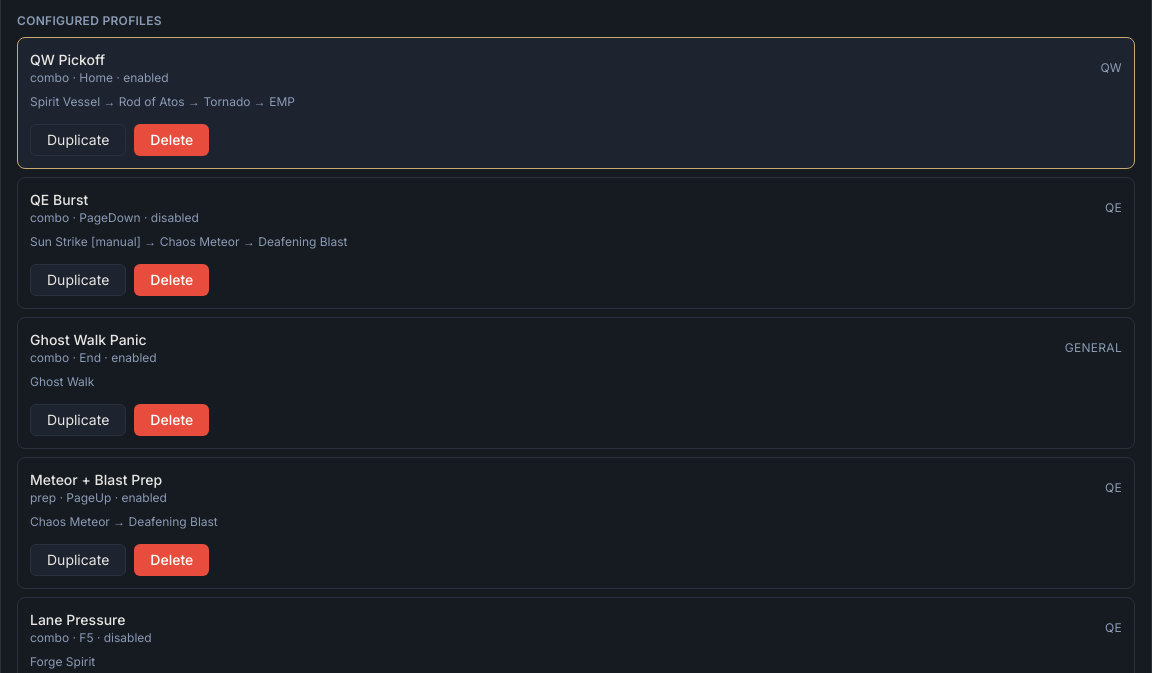
InvokerConfig › clears the active combo when the active profile is deleted
(page scrolled)
Click the button "Ghost Walk Panic combo · End · enabled general Ghost Walk" at [88, 340], box [30, 330, 1122, 390]
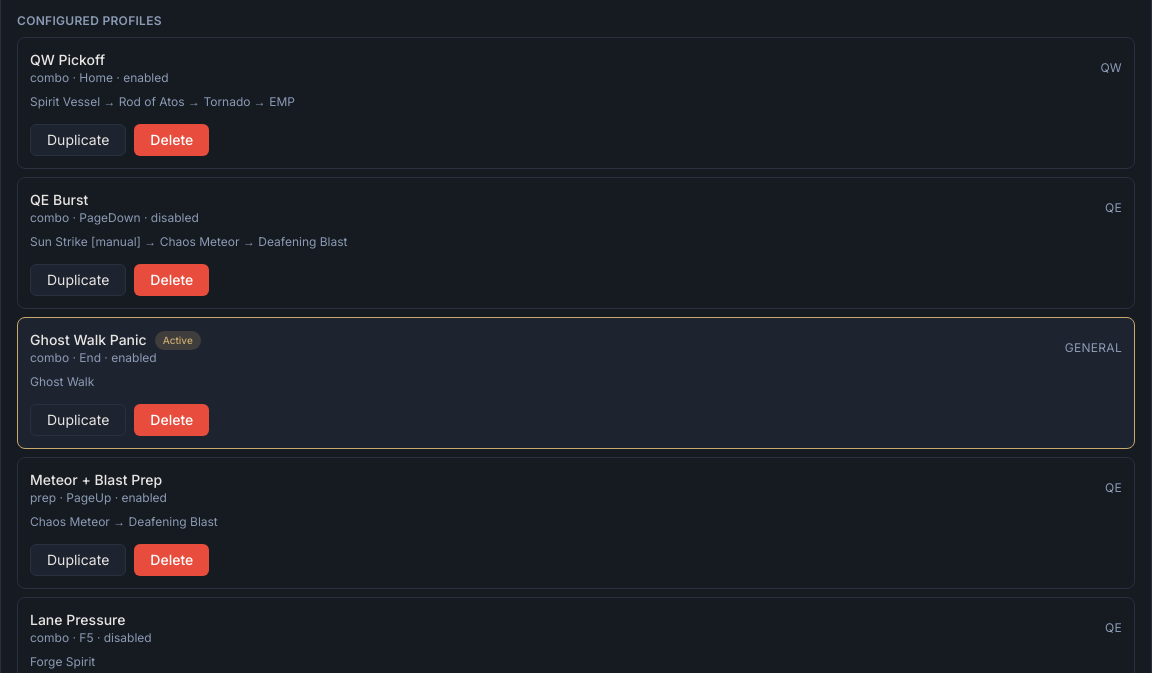
Click the button with aria-label "Delete Ghost Walk Panic" at [172, 420], box [134, 404, 209, 436]
(page scrolled)
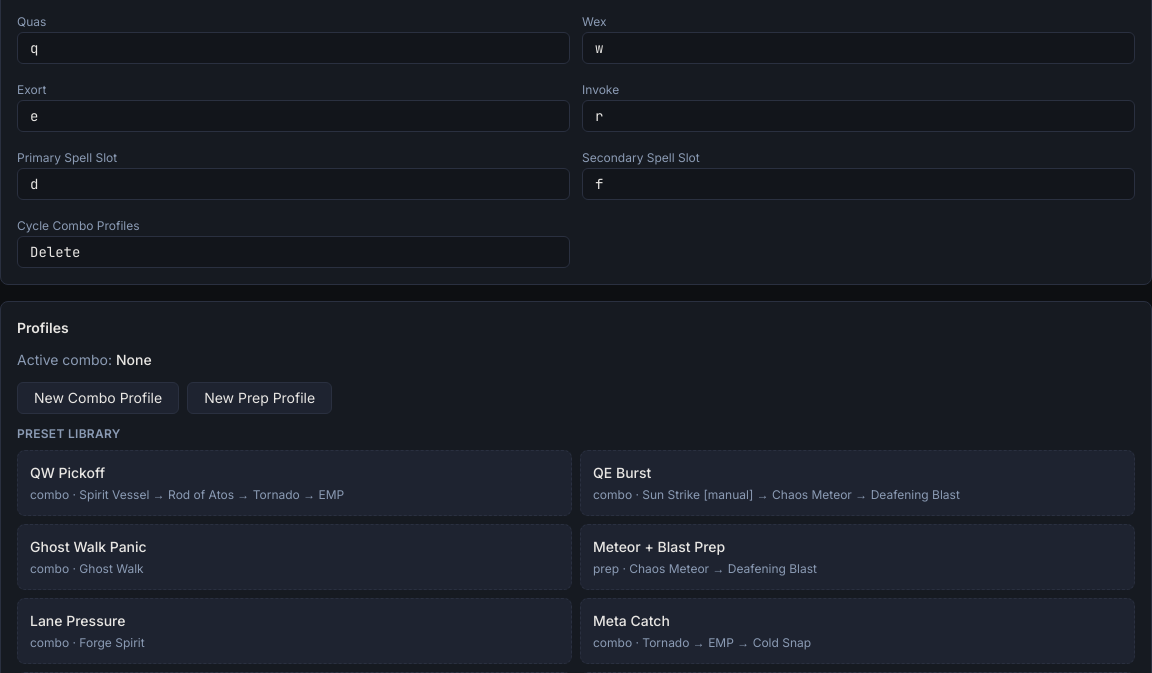
Expected: the text "Active combo: None" is shown, [17, 351, 152, 368]
